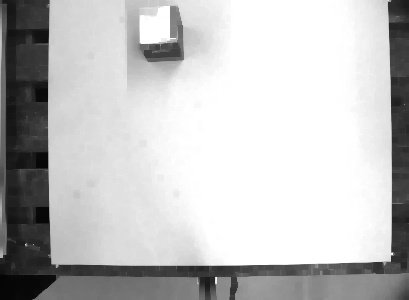b4: (134, 2, 186, 63)
